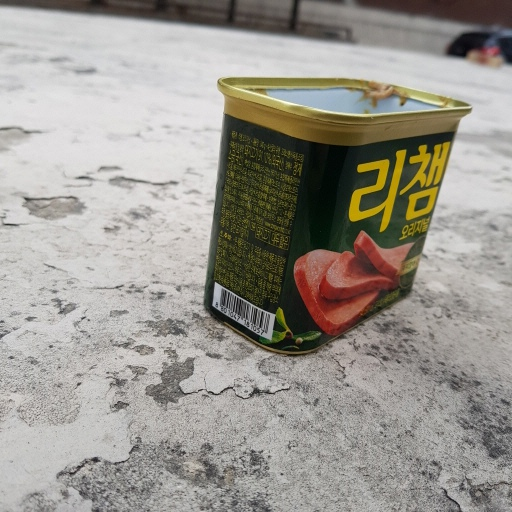Metal_2: (199, 70, 473, 359)
